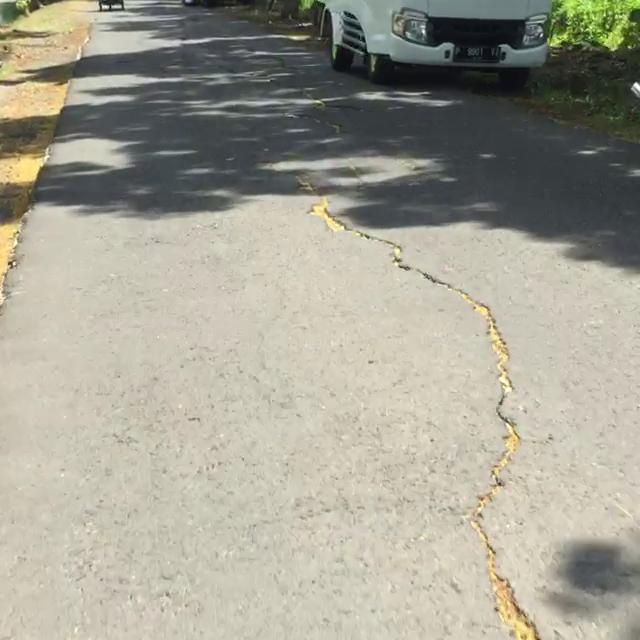retak_memanjang: (272, 164, 602, 640)
